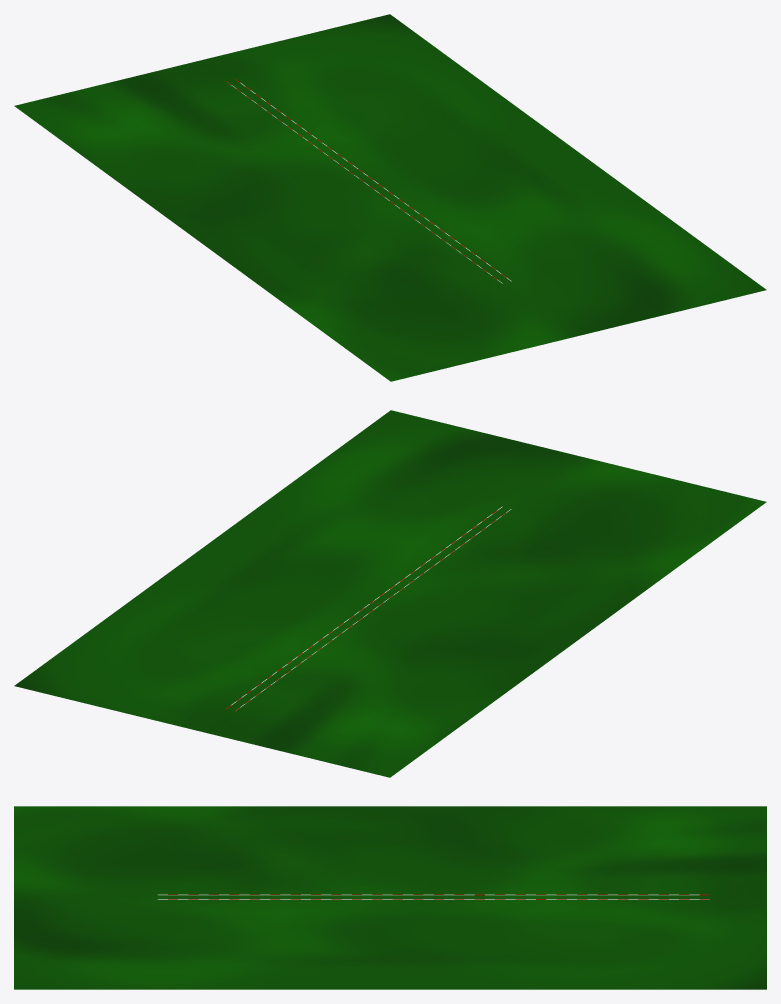
The model's file is tree1.obj.
3 renders of one model, top to bottom at view 1: azimuth 30°, elevation 25°; view 2: azimuth 150°, elevation 25°; view 3: azimuth 270°, elevation 25°, orthographic.
Parts seen in each view (by area): view 1: 平面; view 2: 平面; view 3: 平面.
Part boxes in pixels (bbox=[...]): 平面: bbox=[14, 14, 766, 381]; 平面: bbox=[14, 410, 766, 777]; 平面: bbox=[14, 806, 766, 989].
Size of the model in its own units: 4264 by 9.76 by 7400.
Materials: 2 (2 with a texture image).
